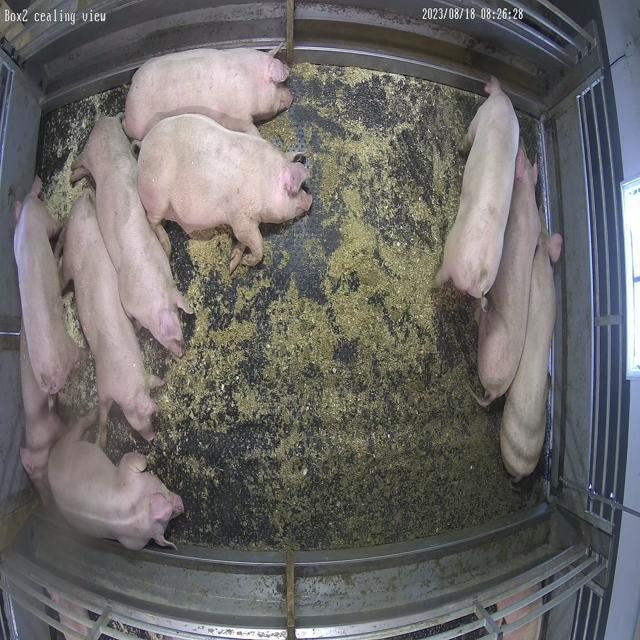Dirt: (106, 64, 543, 552)
Pig: (72, 115, 190, 356), (138, 114, 313, 272), (58, 192, 159, 442), (437, 76, 520, 298), (48, 416, 184, 551), (478, 146, 542, 406), (124, 47, 293, 140), (502, 230, 564, 482), (13, 177, 78, 396), (20, 331, 64, 494)
